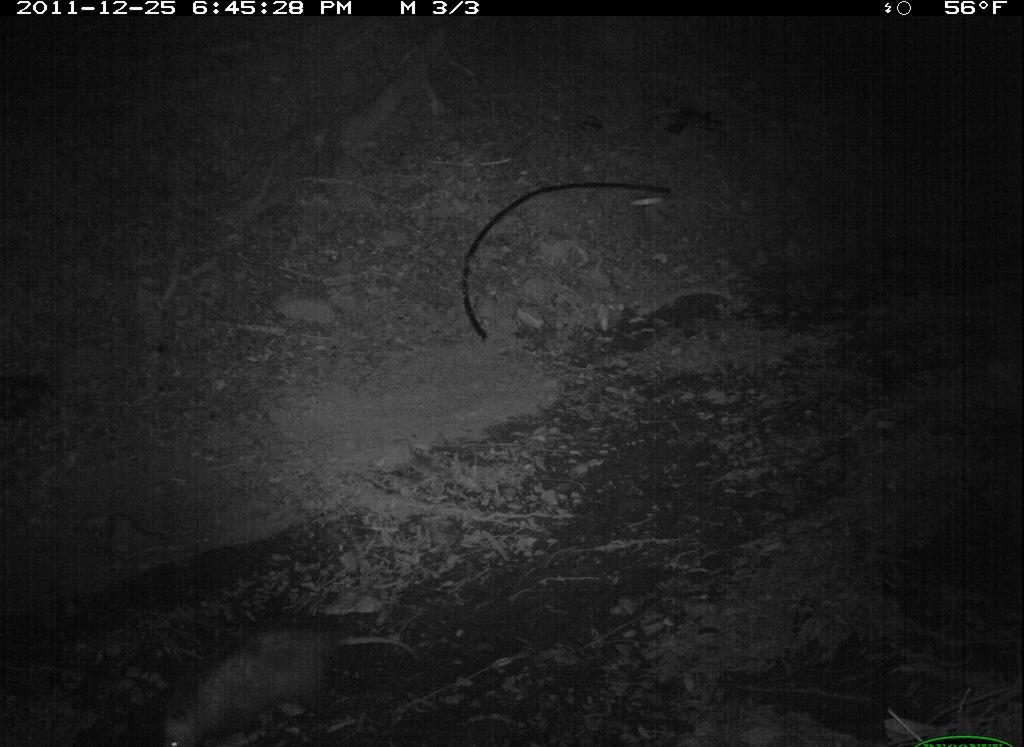opossum: (149, 620, 406, 747)
